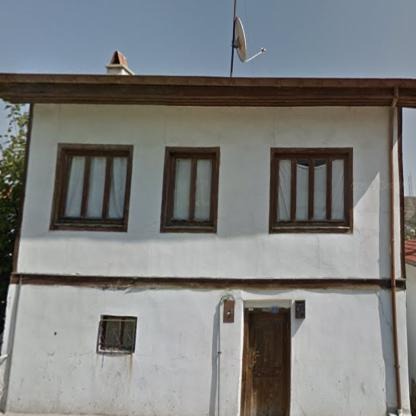door: (245, 314, 285, 414)
window: (274, 155, 346, 225), (60, 153, 128, 219), (167, 155, 214, 225), (104, 317, 134, 347)
